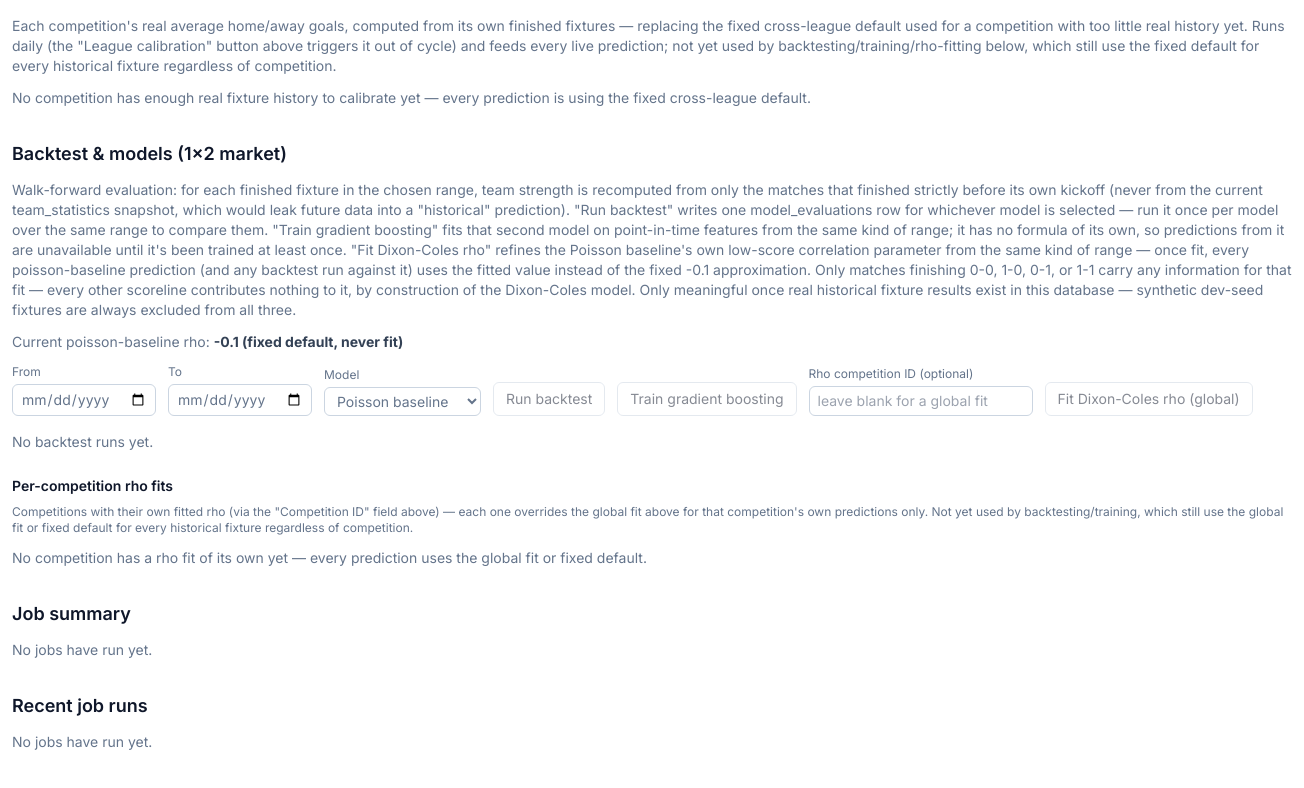
AdminDashboard › shows an error message when fitting rho fails (e.g. too few informative matches in range)
(page scrolled)
expect the button "Fit Dixon-Coles rho (global)" is shown: met, box [1044,382,1253,416]
Type "2024-01-01" into the date field labelled "From" at (84, 400), box [12,384,156,416]
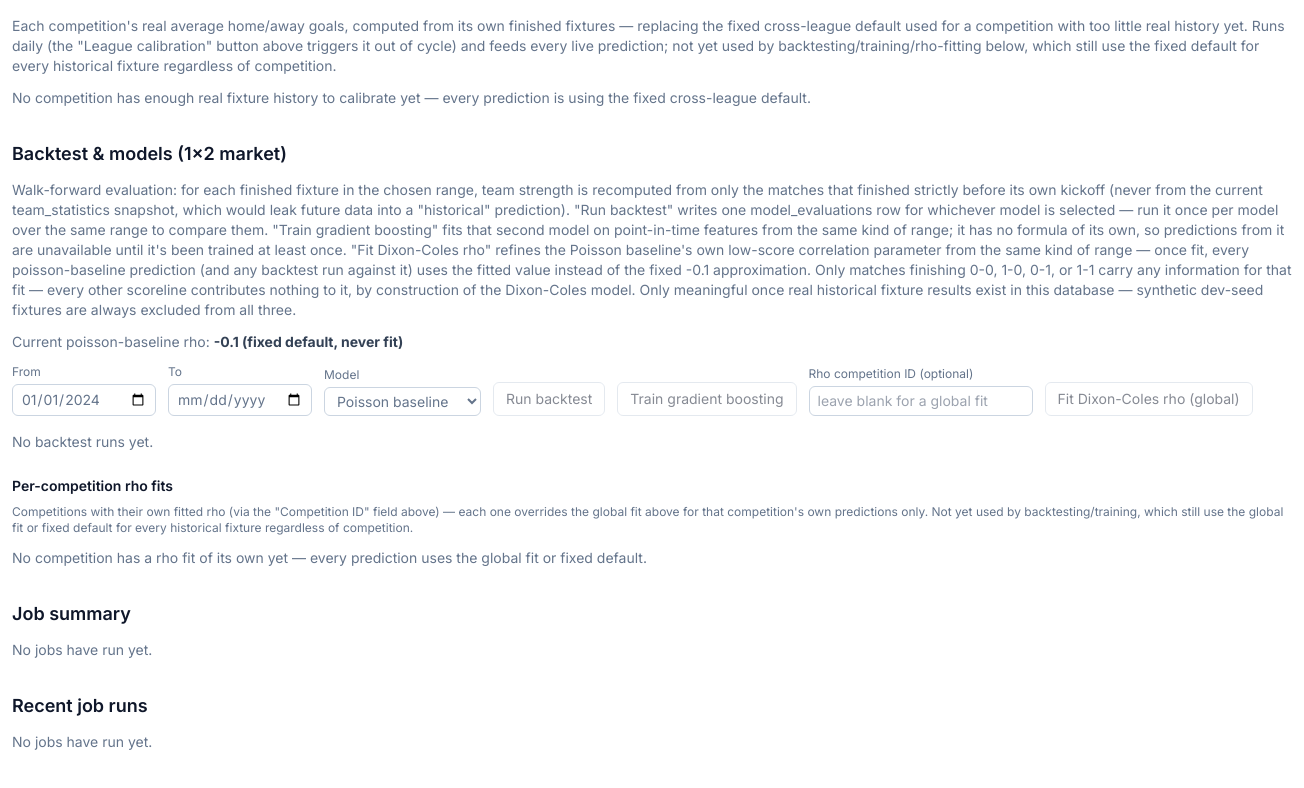
Type "2024-01-31" into the date field labelled "To" at (240, 400), box [168,384,312,416]
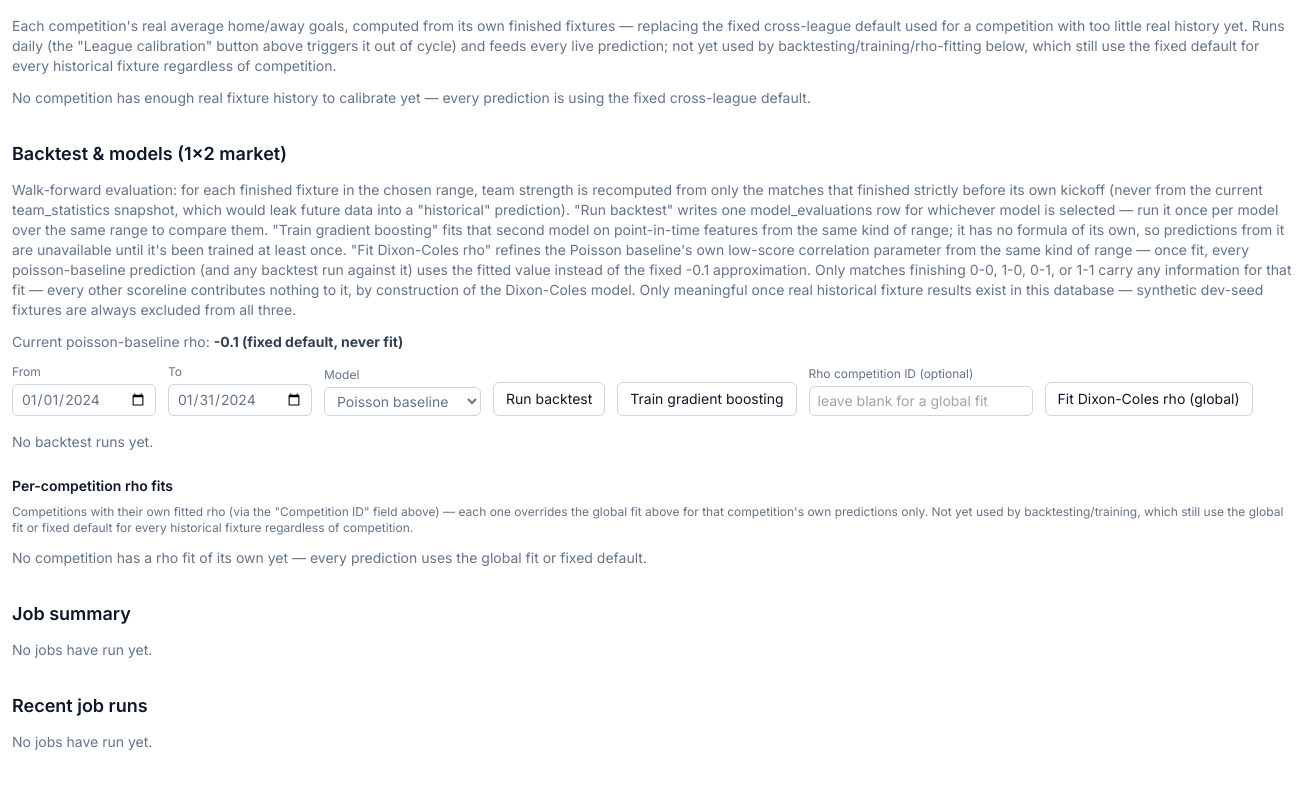
Click the button "Fit Dixon-Coles rho (global)" at (1149, 399), box [1044,382,1253,416]
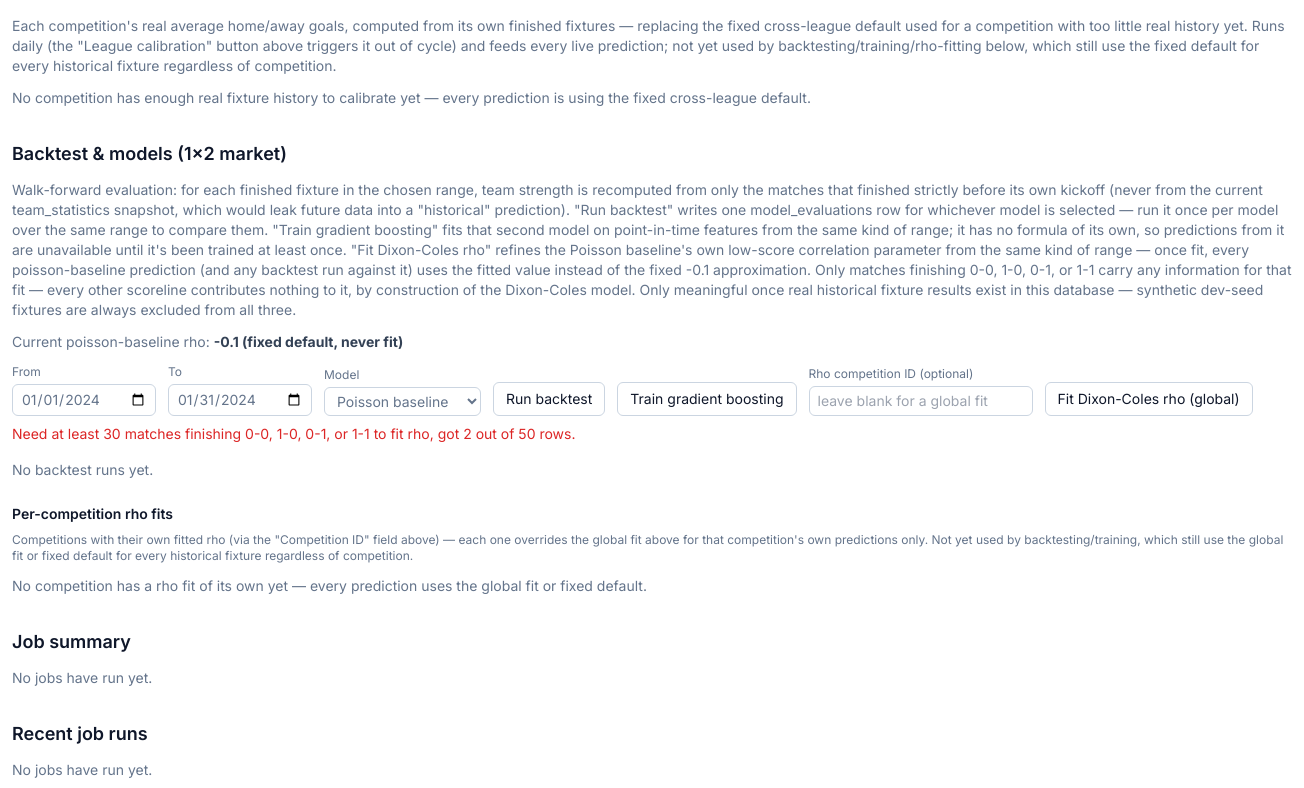
expect the text "Need at least 30 matches finishing 0-0, 1-0, 0-1, or 1-1 to fit rho, got 2 out of 50 rows." is shown: met, box [12,425,576,442]
